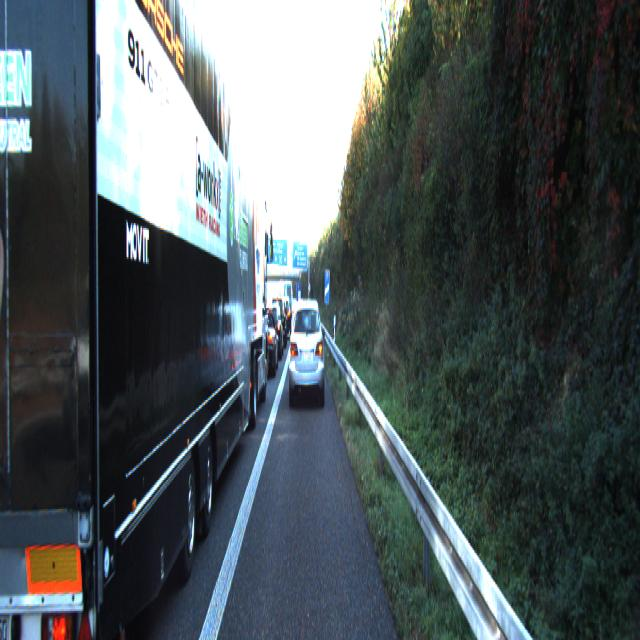Car: (288, 296, 324, 406), (249, 310, 279, 377)
Truck: (16, 0, 268, 638)
